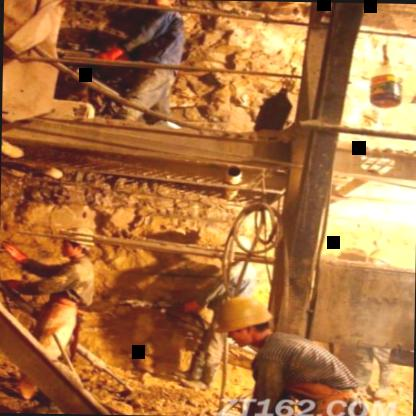helmet: (215, 287, 276, 349), (54, 225, 97, 257), (139, 0, 184, 11)
